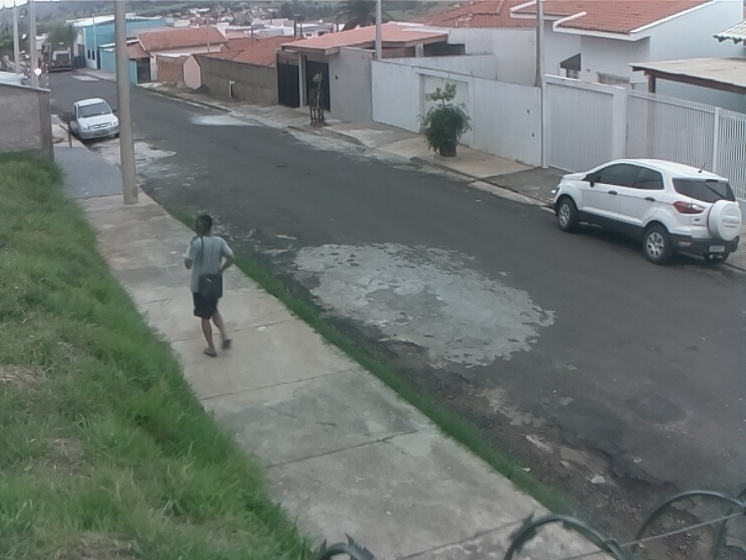person: (185, 210, 238, 360)
